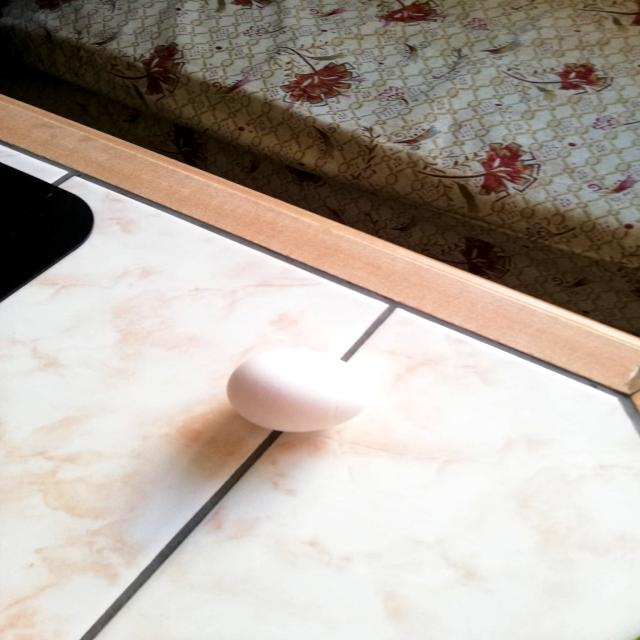egg: (221, 347, 376, 436)
